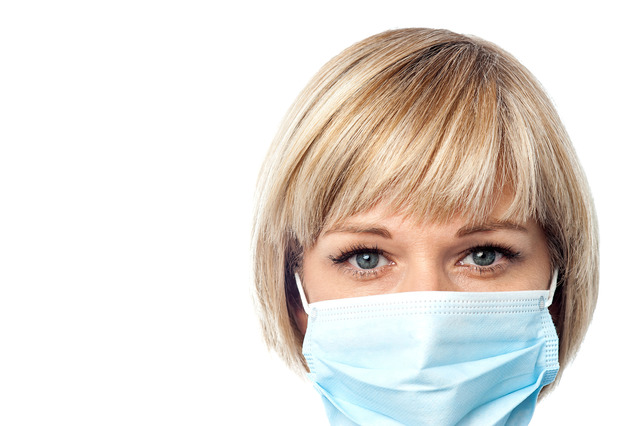mask: (302, 300, 570, 426)
